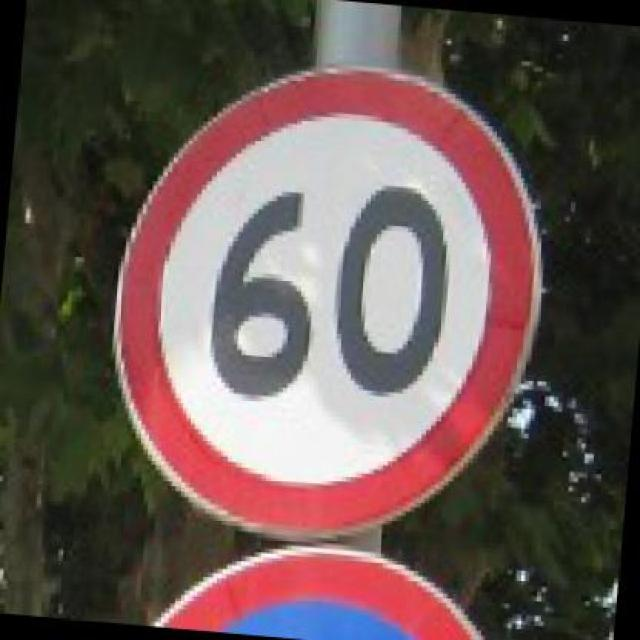Limite-60: (112, 64, 541, 545)
